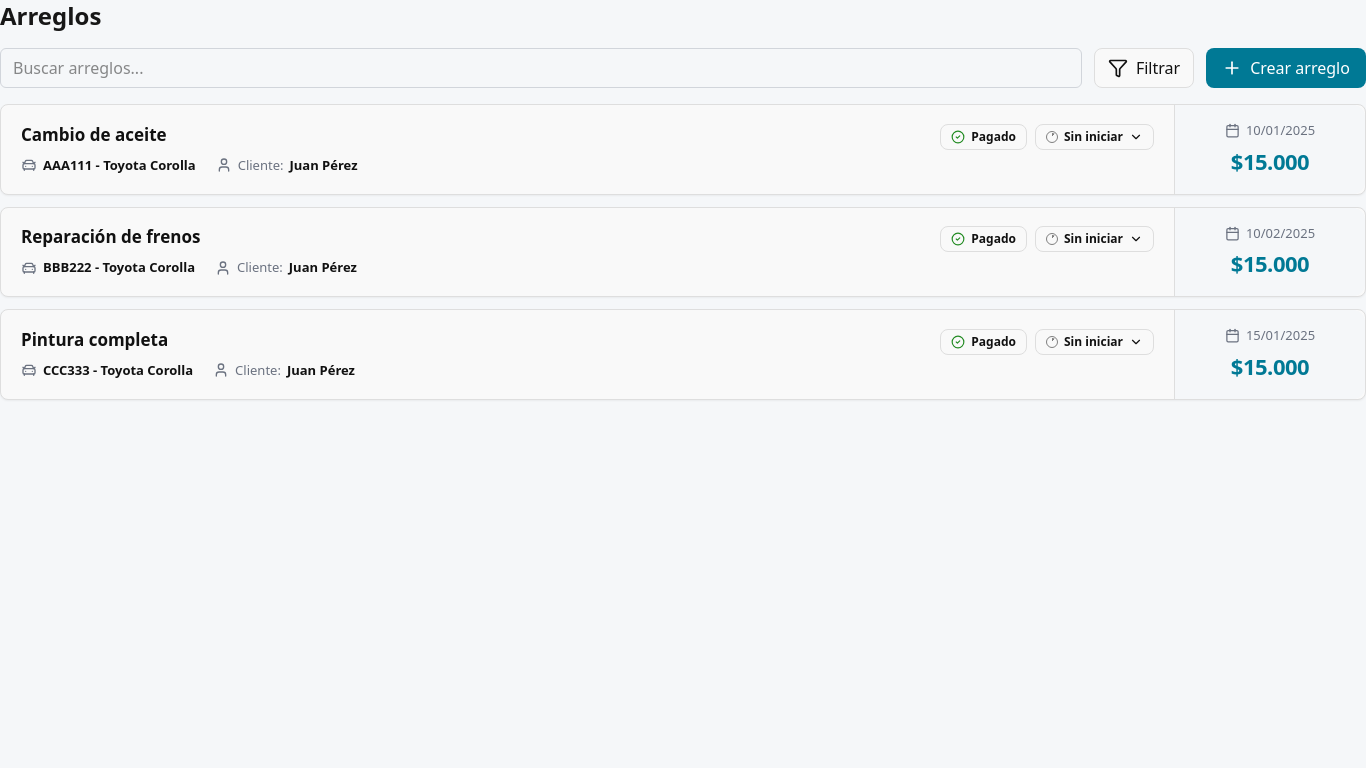
Test: ArreglosPage › permite buscar por texto y aplicar filtros desde el modal
expect the element with test id "arreglo-item-1" is shown: met, box left=0, top=104, right=1365, bottom=194
expect the element with test id "arreglo-item-2" is shown: met, box left=0, top=206, right=1365, bottom=297
Step 1. Type "frenos" into the field with test id "arreglos-search" → [541, 68], box left=0, top=48, right=1082, bottom=88
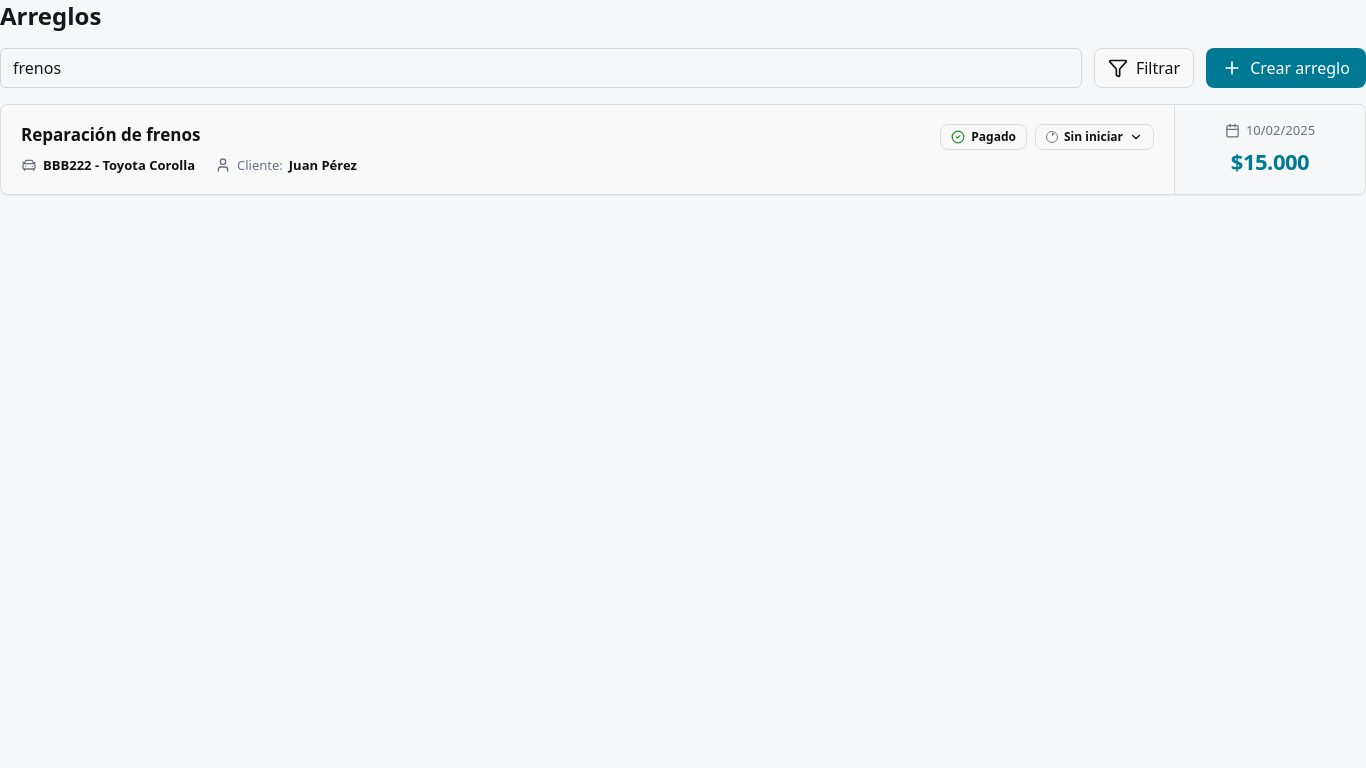
expect the element with test id "arreglo-item-2" is shown: met, box left=0, top=104, right=1365, bottom=194
expect the element with test id "arreglo-item-1" is gone: met
expect the element with test id "arreglo-item-3" is gone: met
Step 2. Clear the field with test id "arreglos-search" → [541, 68], box left=0, top=48, right=1082, bottom=88
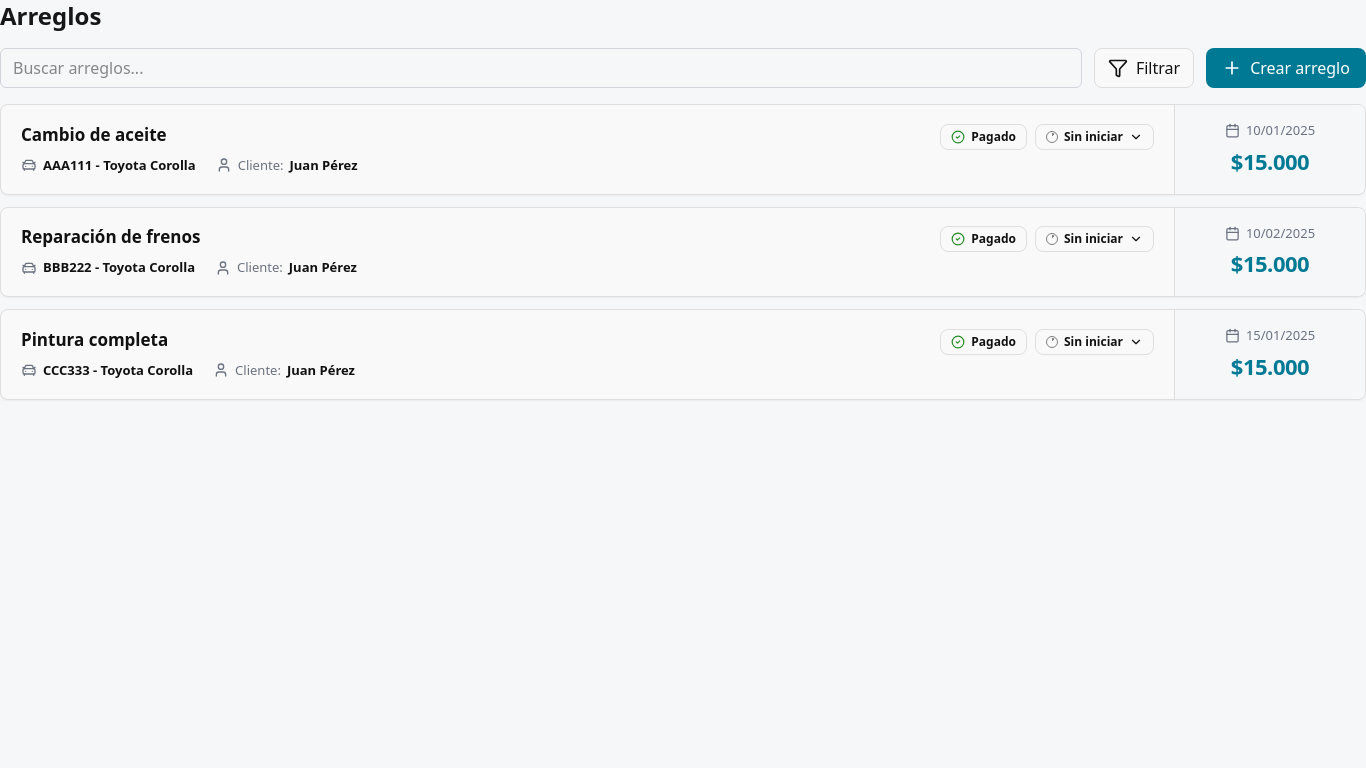
Step 3. Click the button with test id "arreglos-open-filters" → [1144, 68], box left=1094, top=48, right=1194, bottom=88
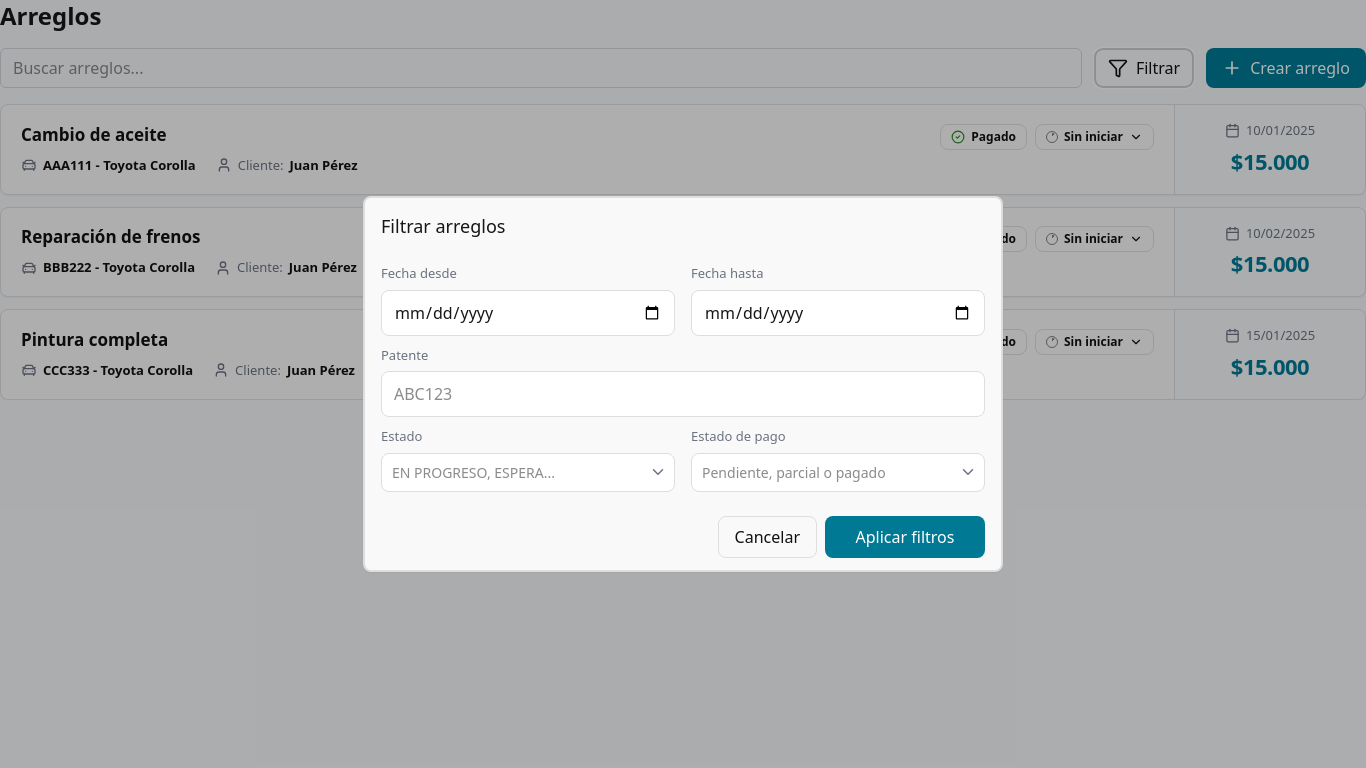
expect the dialog with test id "modal-overlay" is shown: met
Step 4. Type "CCC" into the field with test id "arreglos-filter-patente" → [683, 394], box left=381, top=371, right=985, bottom=417
Step 5. Type "2025-01-01" into the date field with test id "arreglos-filter-fecha-desde" → [528, 313], box left=381, top=290, right=675, bottom=336
Step 6. Type "2025-01-31" into the date field with test id "arreglos-filter-fecha-hasta" → [838, 313], box left=691, top=290, right=985, bottom=336
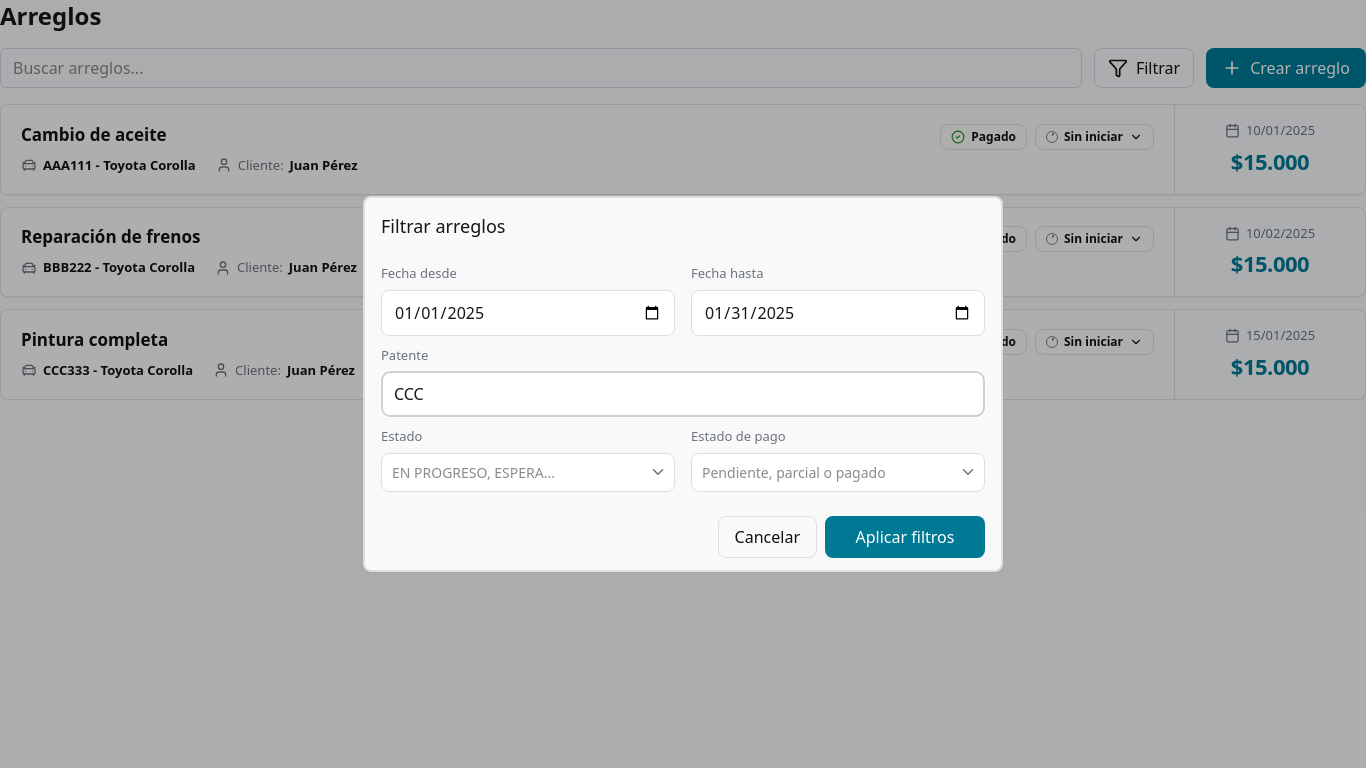
Step 7. Click the button with test id "modal-submit" → [905, 537], box left=825, top=516, right=985, bottom=558
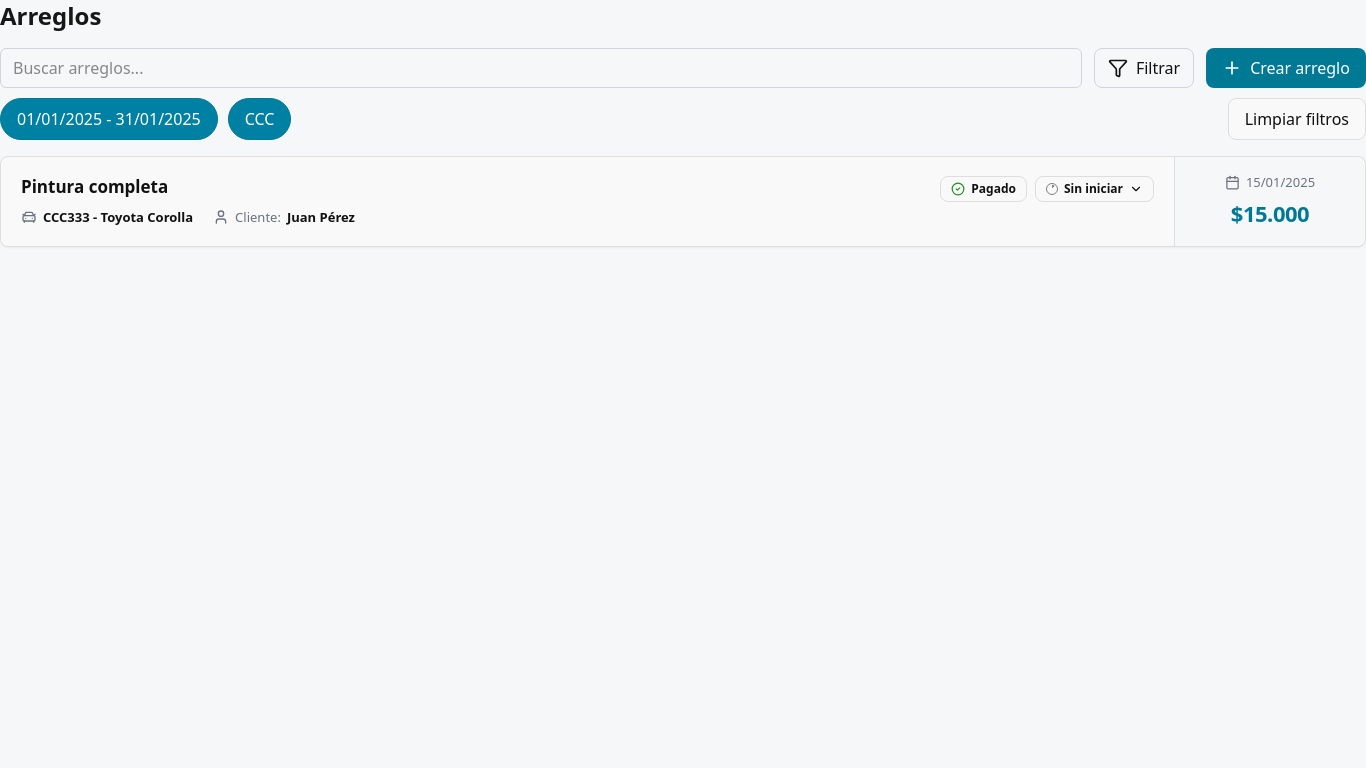
expect the dialog with test id "modal-overlay" is gone: met
expect the element with test id "arreglo-item-1" is gone: met
expect the element with test id "arreglo-item-2" is gone: met
Step 8. Click the button with test id "arreglos-clear-filters" → [1297, 119], box left=1228, top=98, right=1365, bottom=140
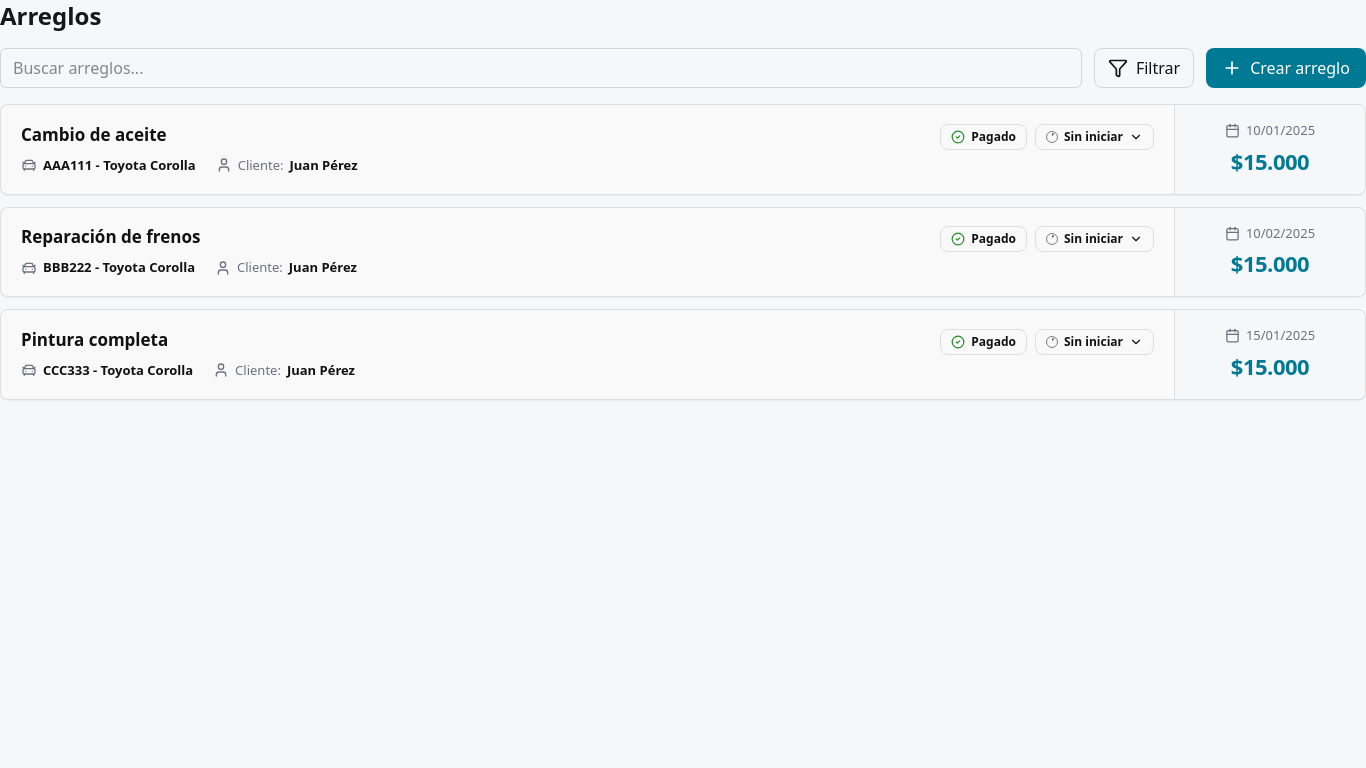
expect the element with test id "arreglo-item-3" is shown: met, box left=0, top=309, right=1365, bottom=400
expect the element with test id "arreglo-item-1" is shown: met, box left=0, top=104, right=1365, bottom=194
expect the element with test id "arreglo-item-2" is shown: met, box left=0, top=206, right=1365, bottom=297
